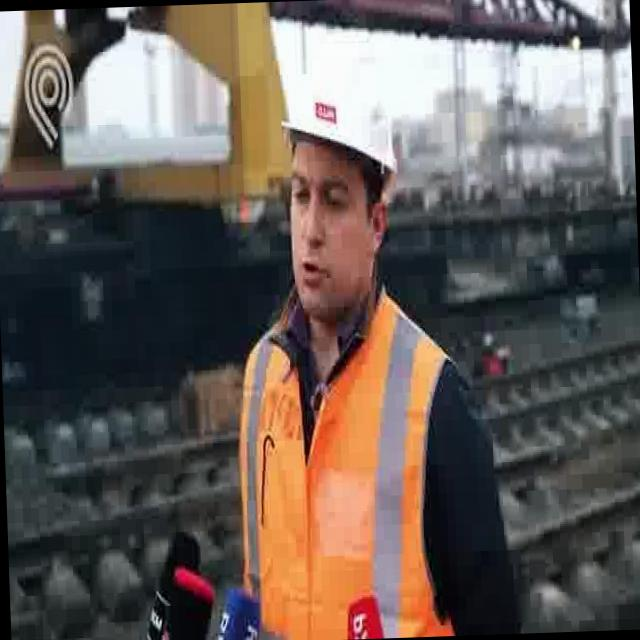helmet: (278, 53, 400, 183)
vest: (228, 273, 470, 640)
